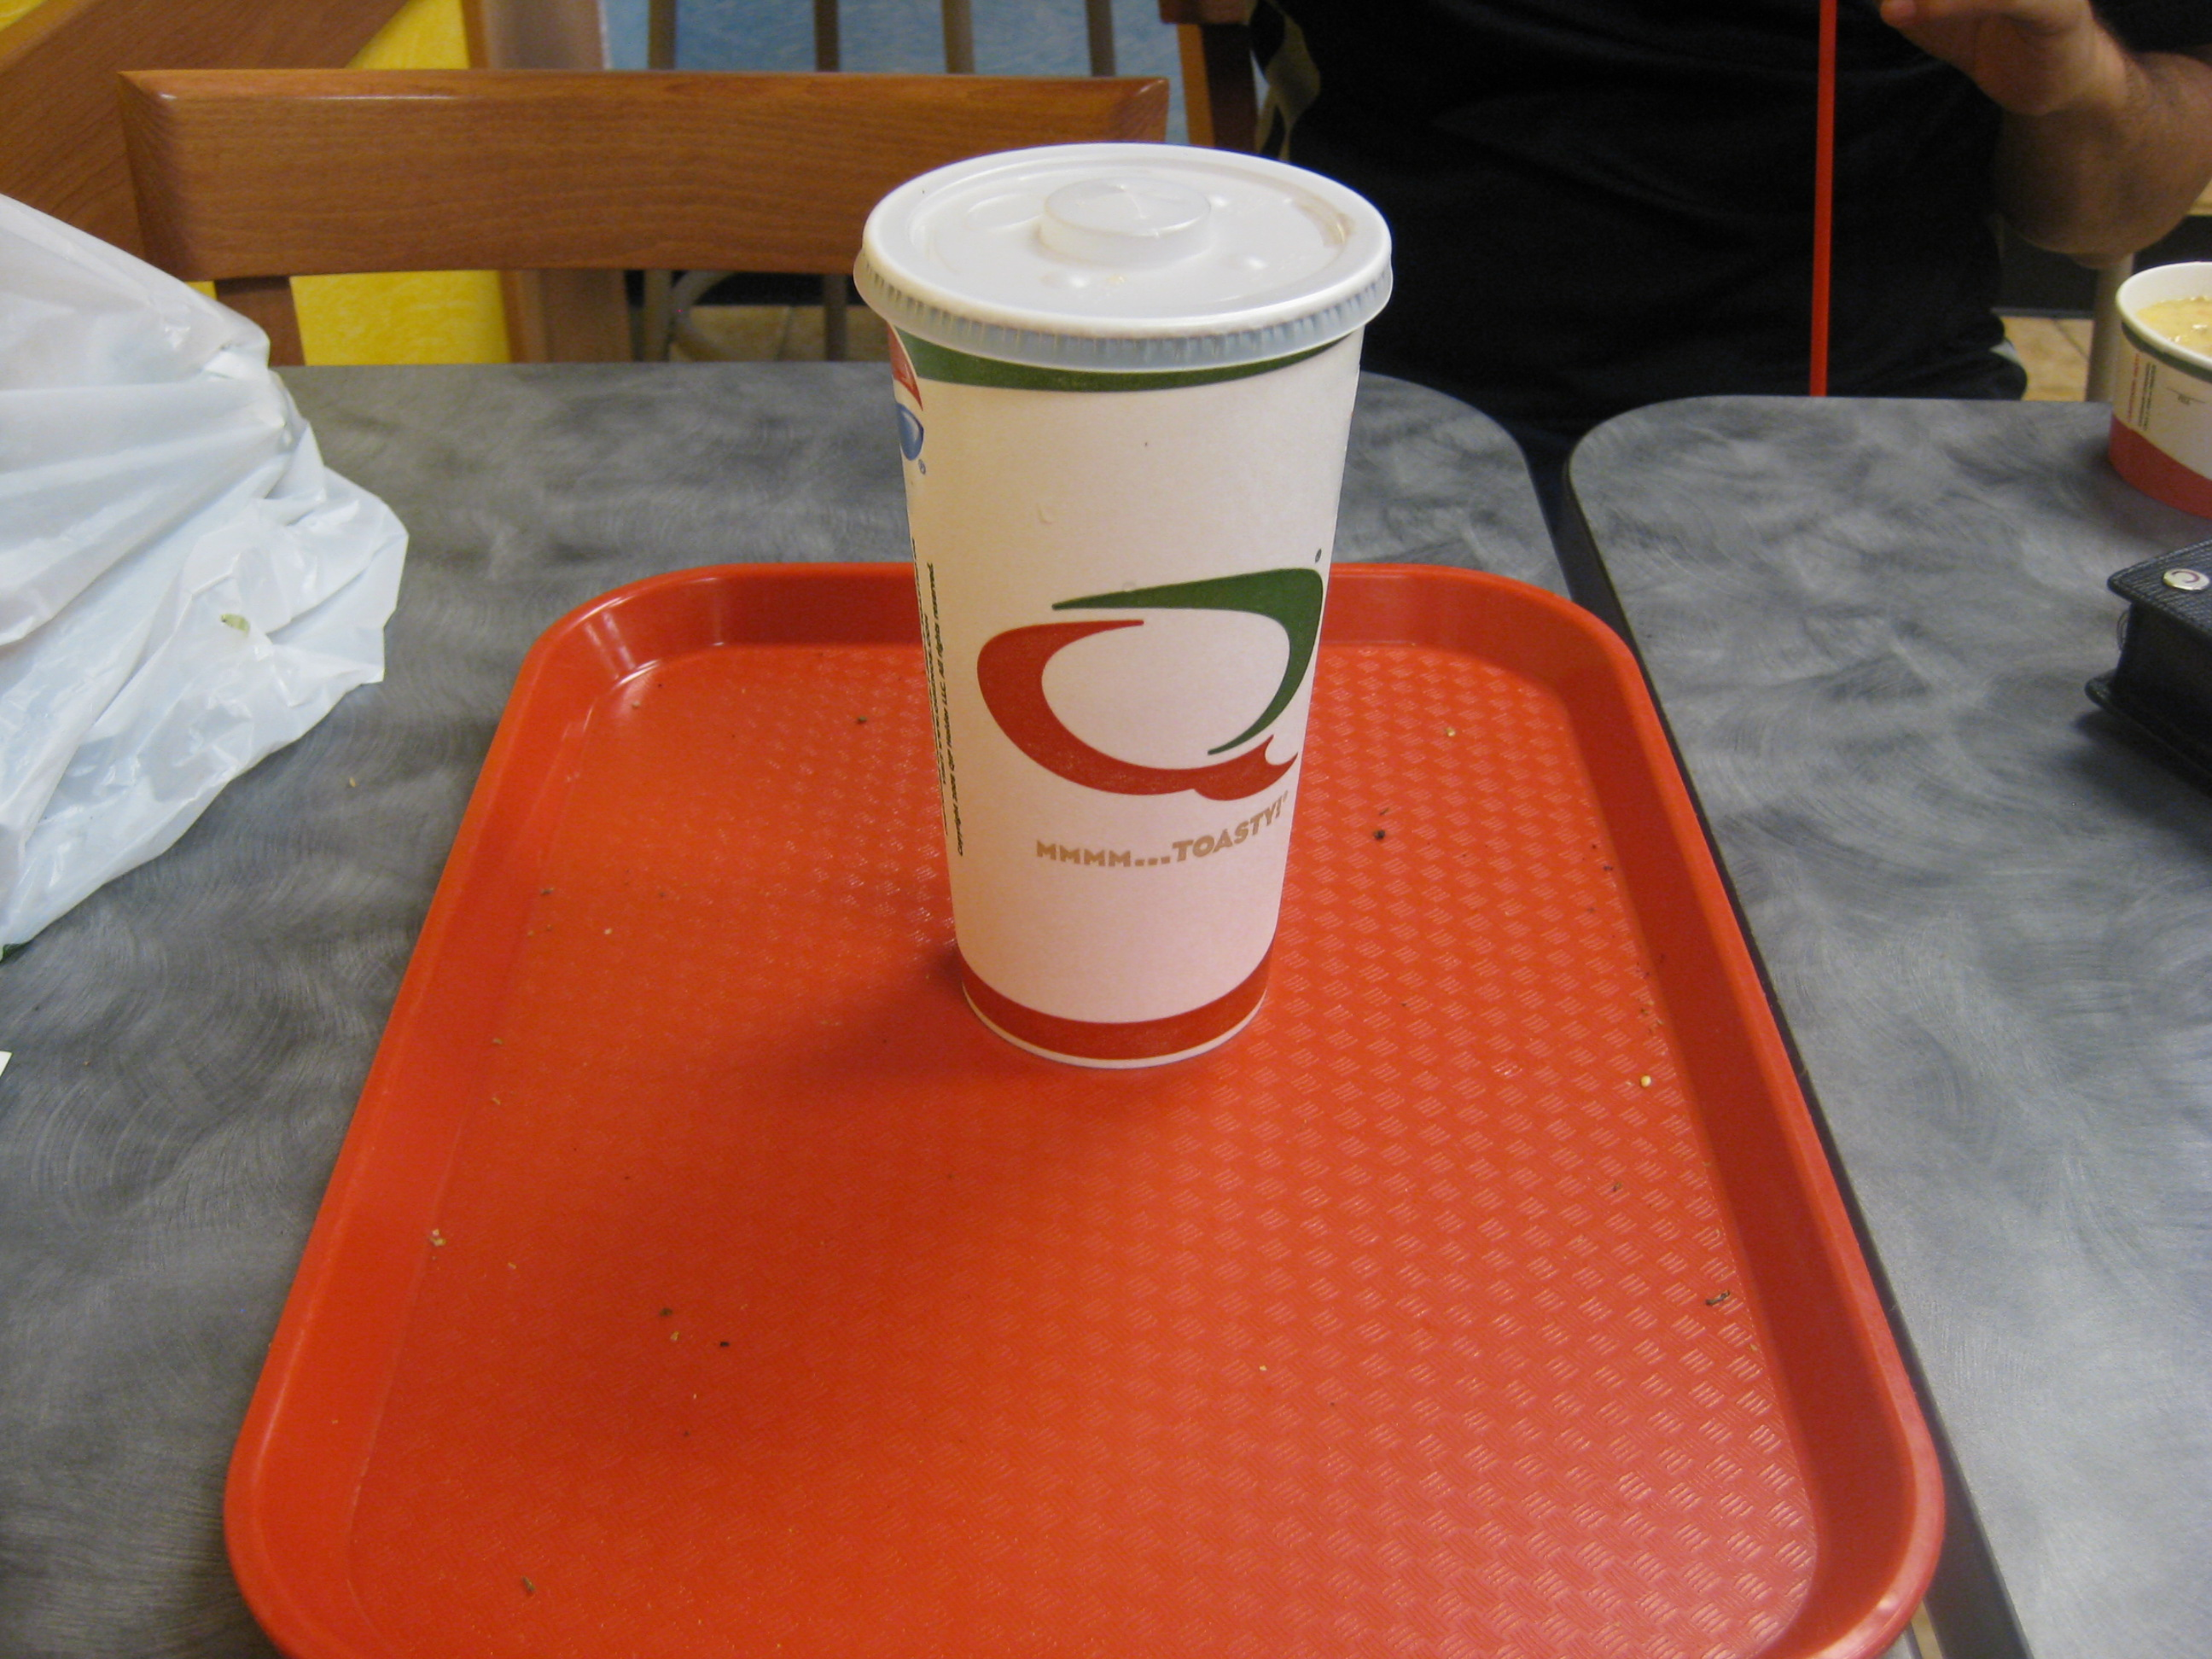drink: (821, 113, 1471, 1104)
